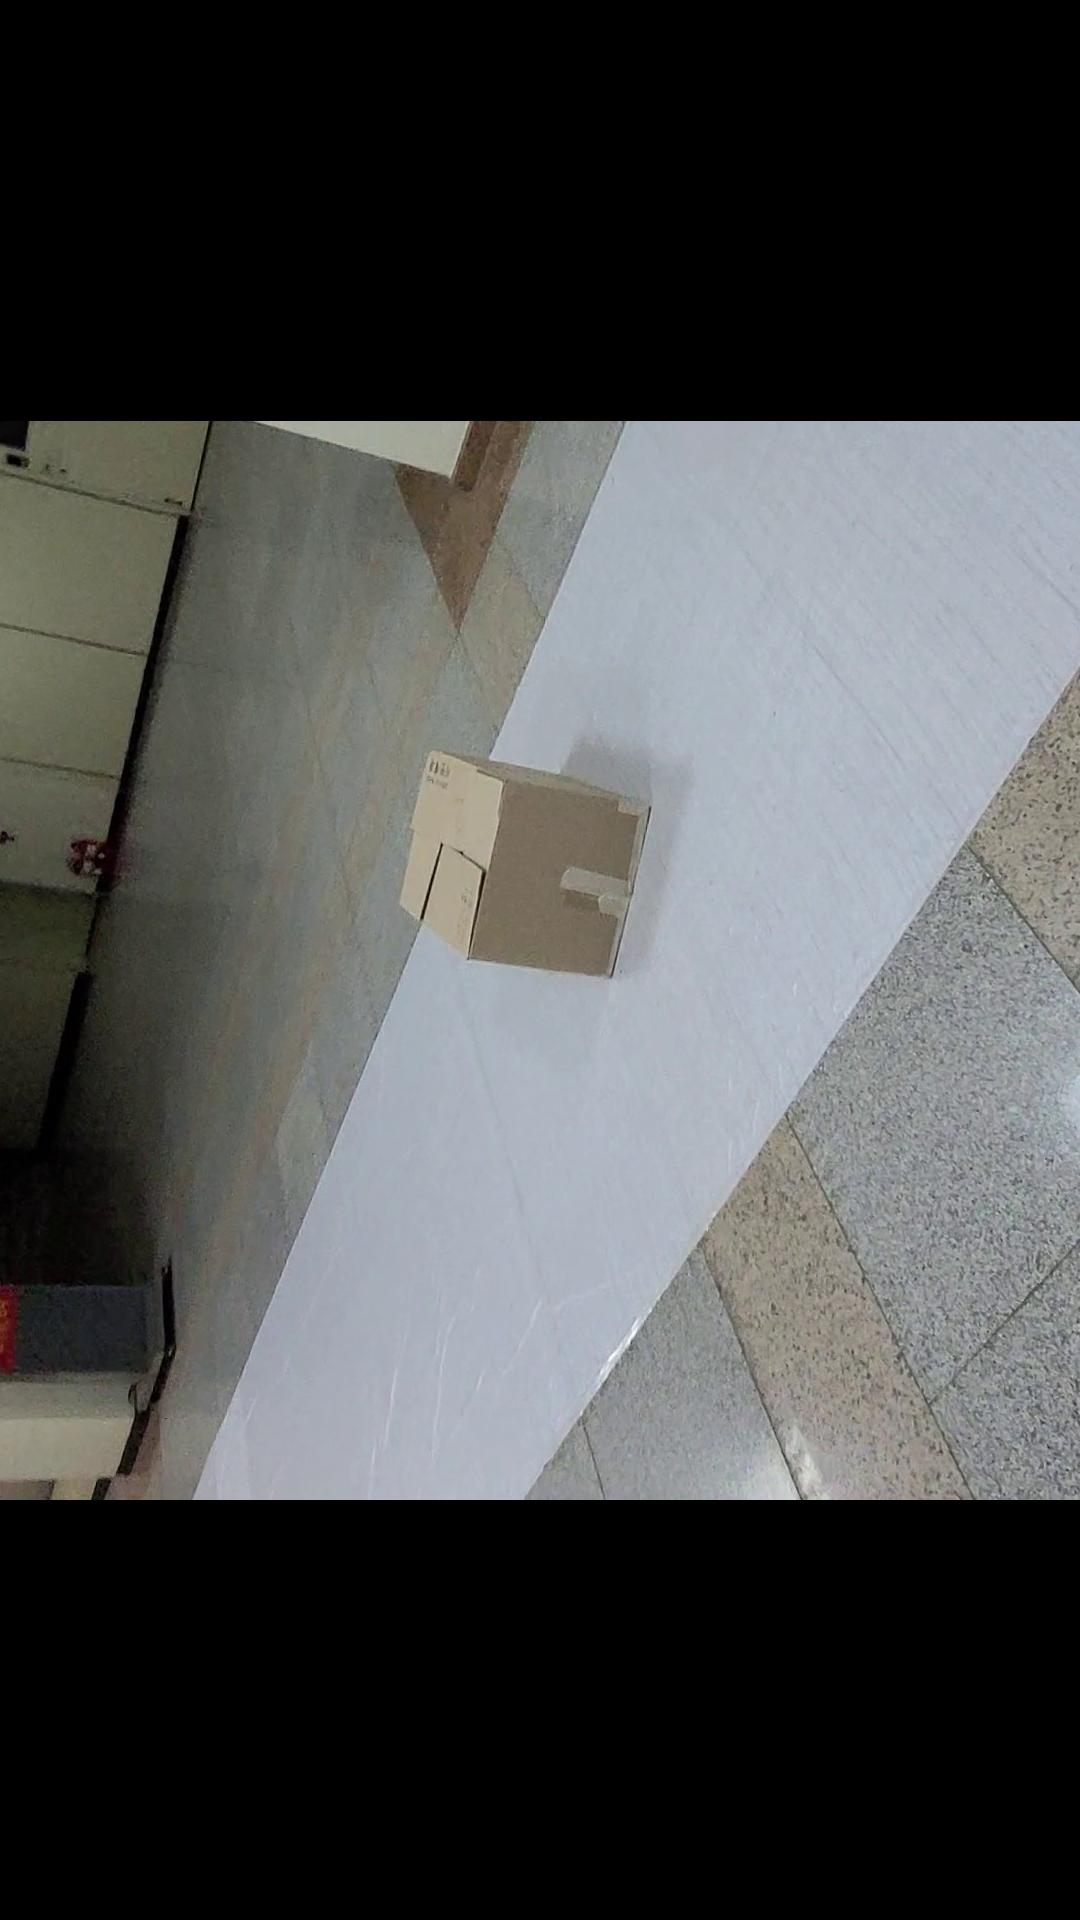Box: (388, 725, 653, 1004)
